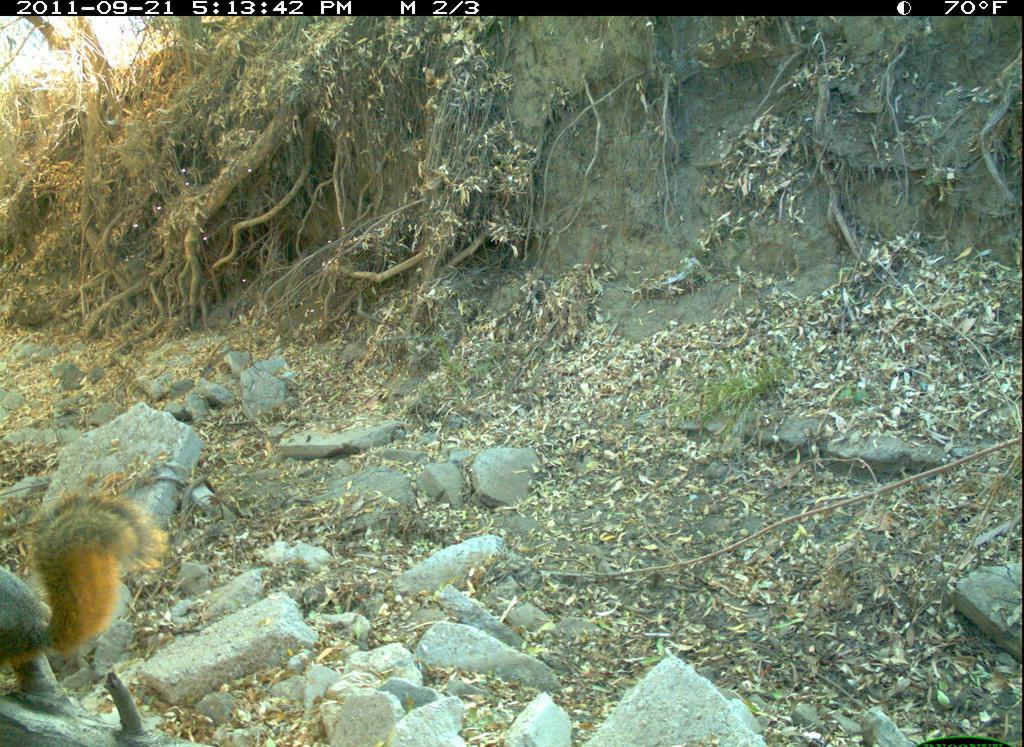squirrel: (1, 483, 180, 701)
